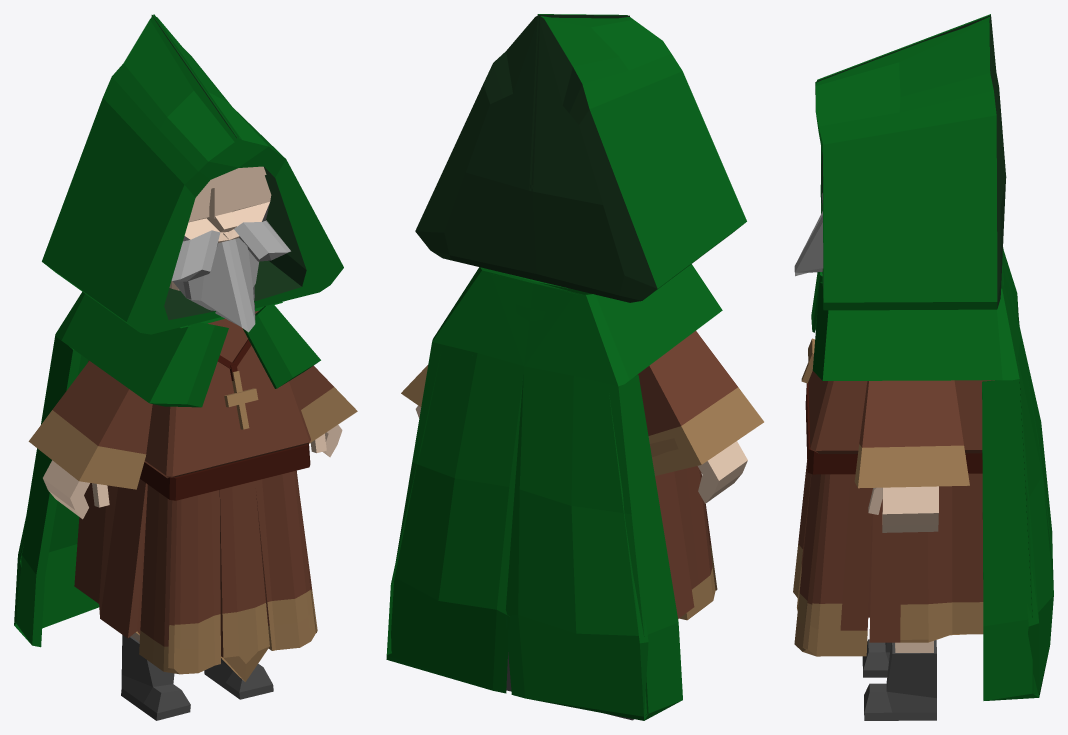
File: sacerdote.glb
3 renders of one model, left to right at view 1: azimuth 30°, elevation 25°; view 2: azimuth 150°, elevation 25°; view 3: azimuth 270°, elevation 25°, orthographic. The views are drawn at different scales.
Visible parts, largest first — view 1: Cubo.058, Cube.003, Cubo.066, Cubo.062, Cube.002, Cubo.057, Cubo.061, Cube.004, Cubo.060, Cubo.063; view 2: Cubo.066, Cubo.058, Cubo.062, Cube.003, Cubo.060; view 3: Cubo.058, Cubo.066, Cube.003, Cubo.062, Cube.002, Cubo.061, Cubo.060, Cube.004, Cubo.057.
Part boxes in pixels (<box>): Cubo.058: <box>42,14,343,334</box>; Cube.003: <box>74,470,317,681</box>; Cubo.066: <box>14,292,320,647</box>; Cubo.062: <box>28,361,357,489</box>; Cube.002: <box>88,311,310,478</box>; Cubo.057: <box>171,166,290,332</box>; Cubo.061: <box>121,632,273,720</box>; Cube.004: <box>140,443,310,500</box>; Cubo.060: <box>43,425,342,519</box>; Cubo.063: <box>224,371,258,429</box>; Cubo.066: <box>386,264,722,720</box>; Cubo.058: <box>415,14,746,302</box>; Cubo.062: <box>401,331,763,475</box>; Cube.003: <box>655,466,717,620</box>; Cubo.060: <box>415,405,747,503</box>; Cubo.058: <box>815,14,1006,310</box>; Cubo.066: <box>811,247,1053,700</box>; Cube.003: <box>793,459,983,656</box>; Cubo.062: <box>854,380,969,488</box>; Cube.002: <box>808,370,994,453</box>; Cubo.061: <box>862,639,936,720</box>; Cubo.060: <box>868,486,938,532</box>; Cube.004: <box>805,382,982,474</box>; Cubo.057: <box>794,193,823,276</box>.
Bounding box in the file's own units: 1.81 × 3.99 × 1.4.
